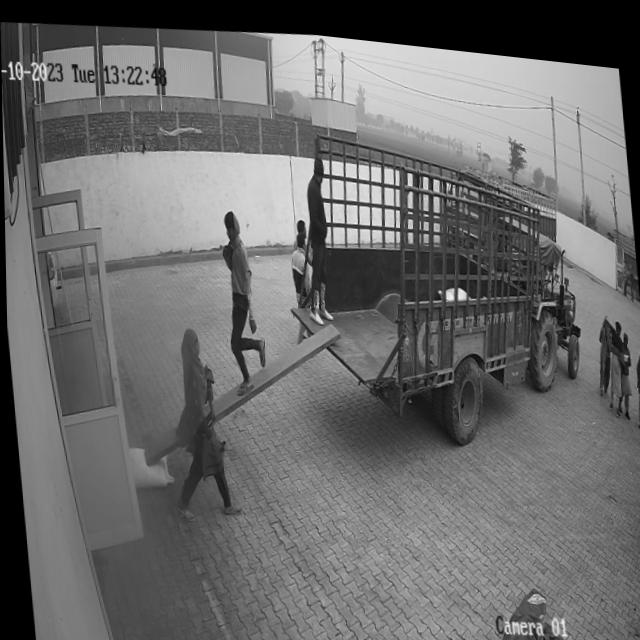sack: (126, 440, 173, 491)
